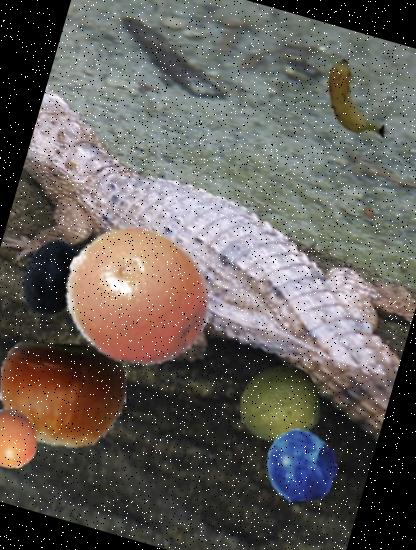Banana: (300, 45, 410, 155)
Blueberry: (1, 229, 97, 326)
Grapefruit: (0, 400, 47, 475)
Huckleberry: (257, 420, 347, 510)
Limes: (228, 355, 329, 456)
Nut: (0, 316, 141, 473)
Tangelo: (45, 204, 229, 388)
